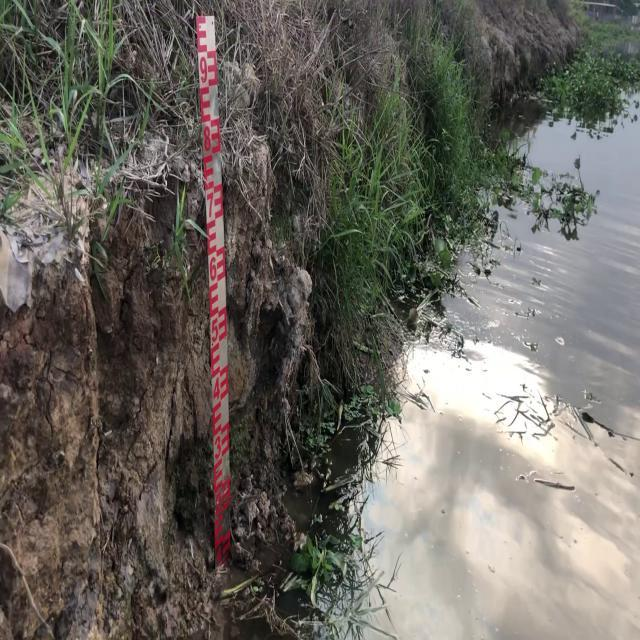ruler: (186, 4, 246, 574)
value: (197, 51, 210, 87), (203, 188, 216, 223), (201, 123, 214, 156), (211, 374, 224, 406), (212, 434, 225, 462), (209, 315, 220, 345), (208, 254, 218, 286)
